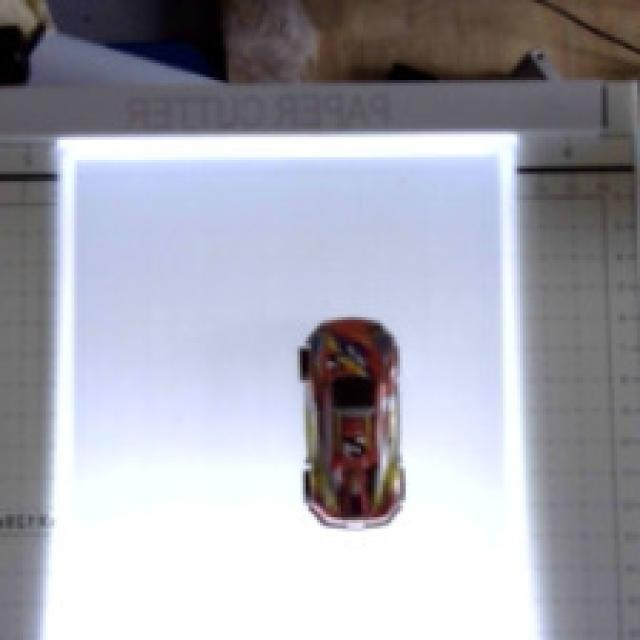Red Car: (236, 294, 442, 562)
